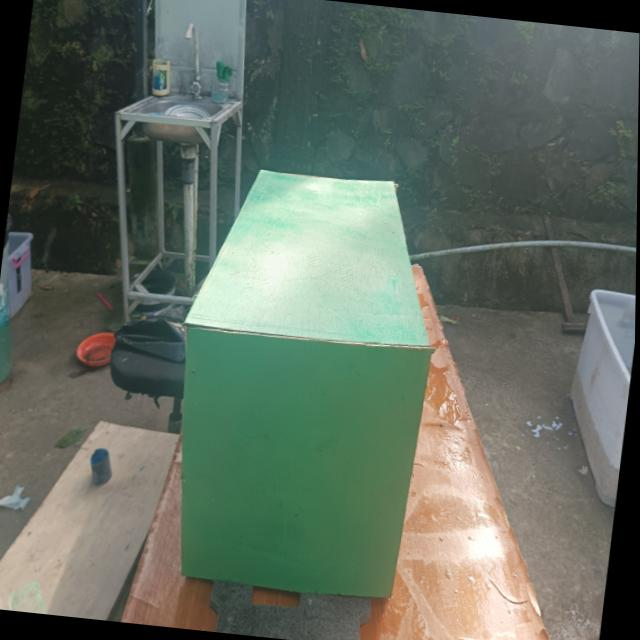green_box: (159, 149, 457, 607)
